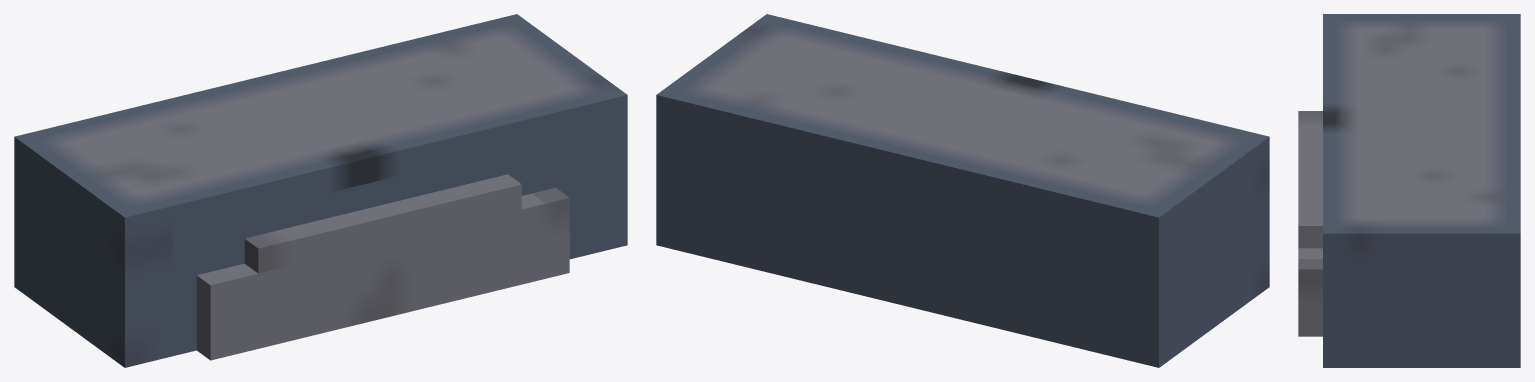
File: Market_Table-1.fbx
The picture shows the model from 3 angles, left to right: view 1: azimuth 30°, elevation 25°; view 2: azimuth 150°, elevation 25°; view 3: azimuth 270°, elevation 25°; orthographic projection. The views are drawn at different scales.
Parts seen in each view (by area): view 1: Market_Table_1; view 2: Market_Table_1; view 3: Market_Table_1.
Part boxes in pixels (bbox=[...]): Market_Table_1: bbox=[14, 14, 627, 367]; Market_Table_1: bbox=[656, 14, 1269, 367]; Market_Table_1: bbox=[1298, 14, 1520, 367].
Size of the model in its own units: 210 by 60 by 90.
Materials: 1 (1 with a texture image).
